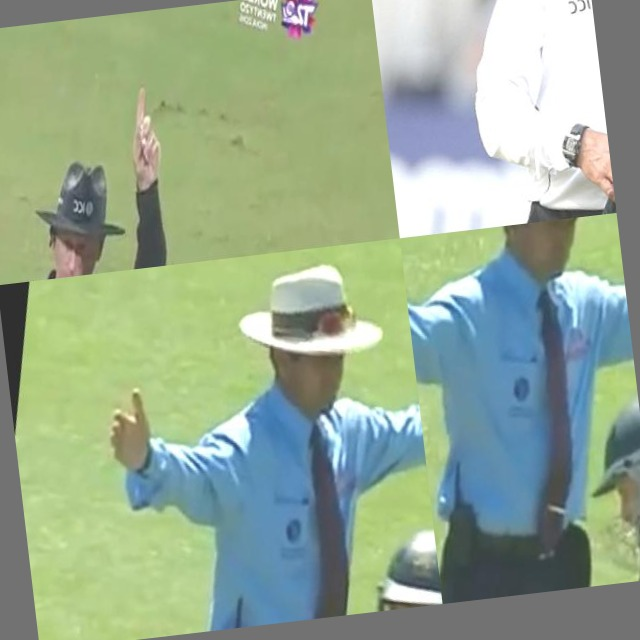No_Action: (407, 0, 617, 234)
Out: (0, 44, 207, 285)
Wide: (54, 238, 443, 640), (400, 213, 640, 604)
